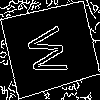W: (25, 23, 76, 80)
